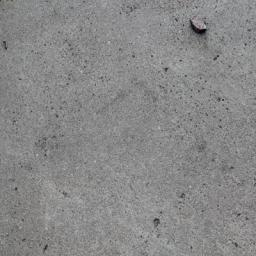FOD: (190, 15, 211, 35)
